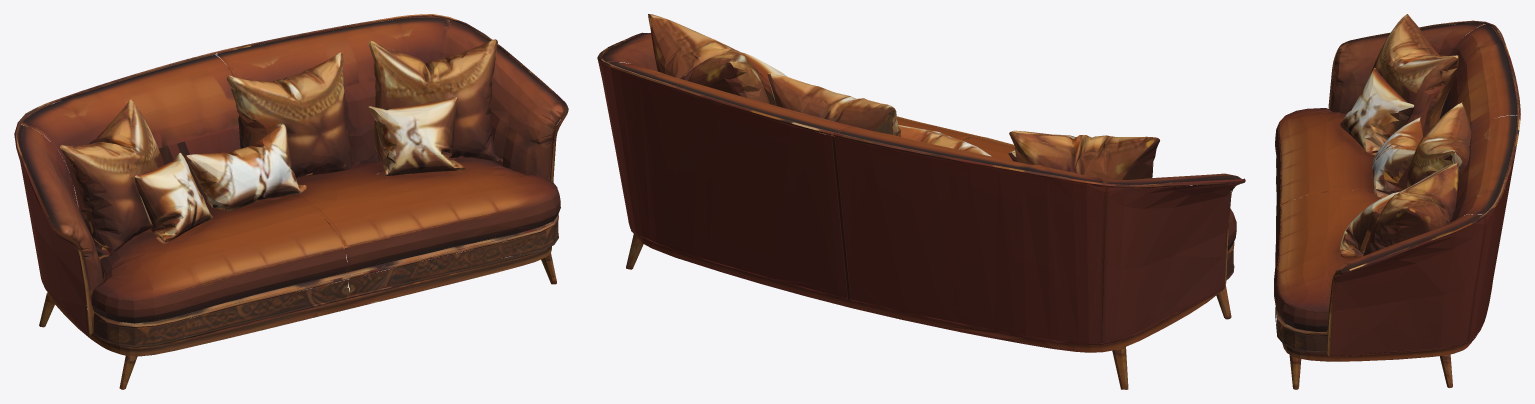
The model's file is edited_mesh.glb.
The picture shows the model from 3 angles, left to right: view 1: azimuth 30°, elevation 25°; view 2: azimuth 150°, elevation 25°; view 3: azimuth 270°, elevation 25°; orthographic projection. The views are drawn at different scales.
Visible parts, largest first — view 1: solid_001_wire; view 2: solid_001_wire; view 3: solid_001_wire.
Part boxes in pixels (box(x1,y1,x2,y2)): solid_001_wire: box(14, 14, 568, 389); solid_001_wire: box(597, 14, 1245, 389); solid_001_wire: box(1274, 14, 1520, 389).
Bounding box in the file's own units: 2 × 0.7466 × 0.909.
Materials: 1 (1 with a texture image).
